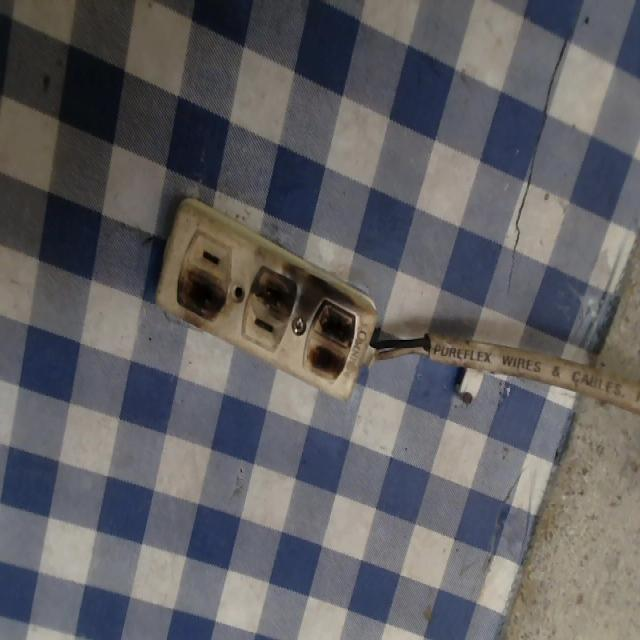-: (301, 287, 358, 385), (171, 264, 232, 329), (246, 250, 299, 314)
